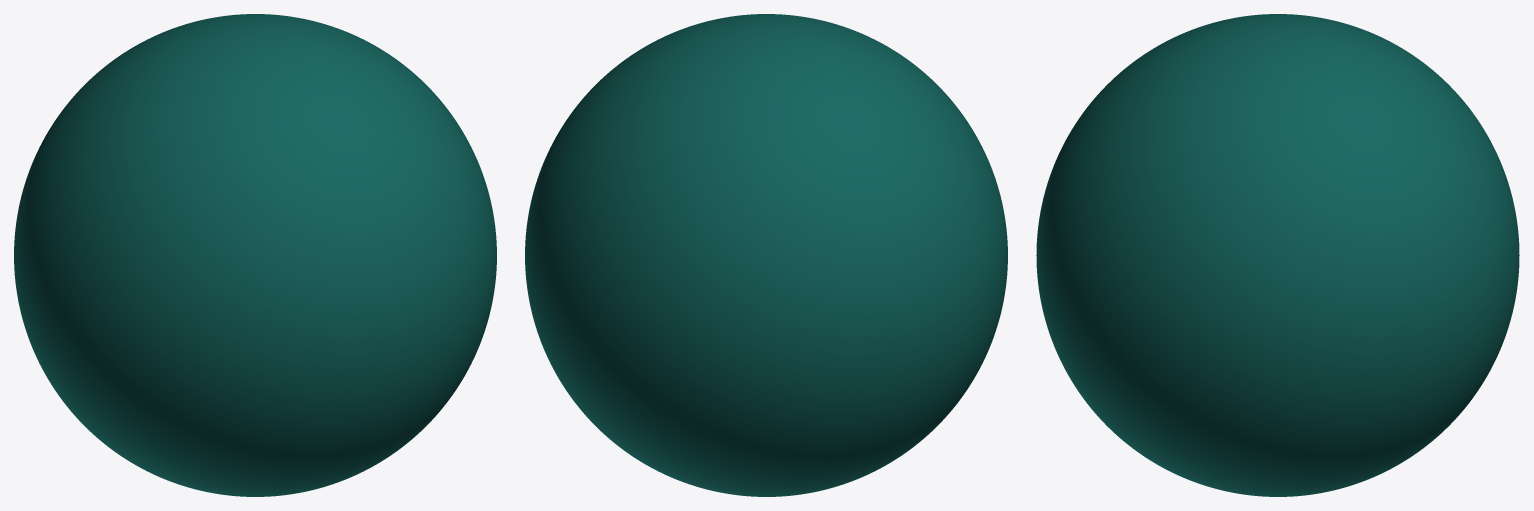
File: EnderPearl.fbx
3 renders of one model, left to right at view 1: azimuth 30°, elevation 25°; view 2: azimuth 150°, elevation 25°; view 3: azimuth 270°, elevation 25°, orthographic.
Parts seen in each view (by area): view 1: Sphere; view 2: Sphere; view 3: Sphere.
Boxes of the visible parts, box(x1,y1,x2,y2) form: Sphere: box(14, 14, 496, 496); Sphere: box(525, 14, 1007, 496); Sphere: box(1036, 14, 1519, 496).
Size of the model in its own units: 100 by 100 by 100.
